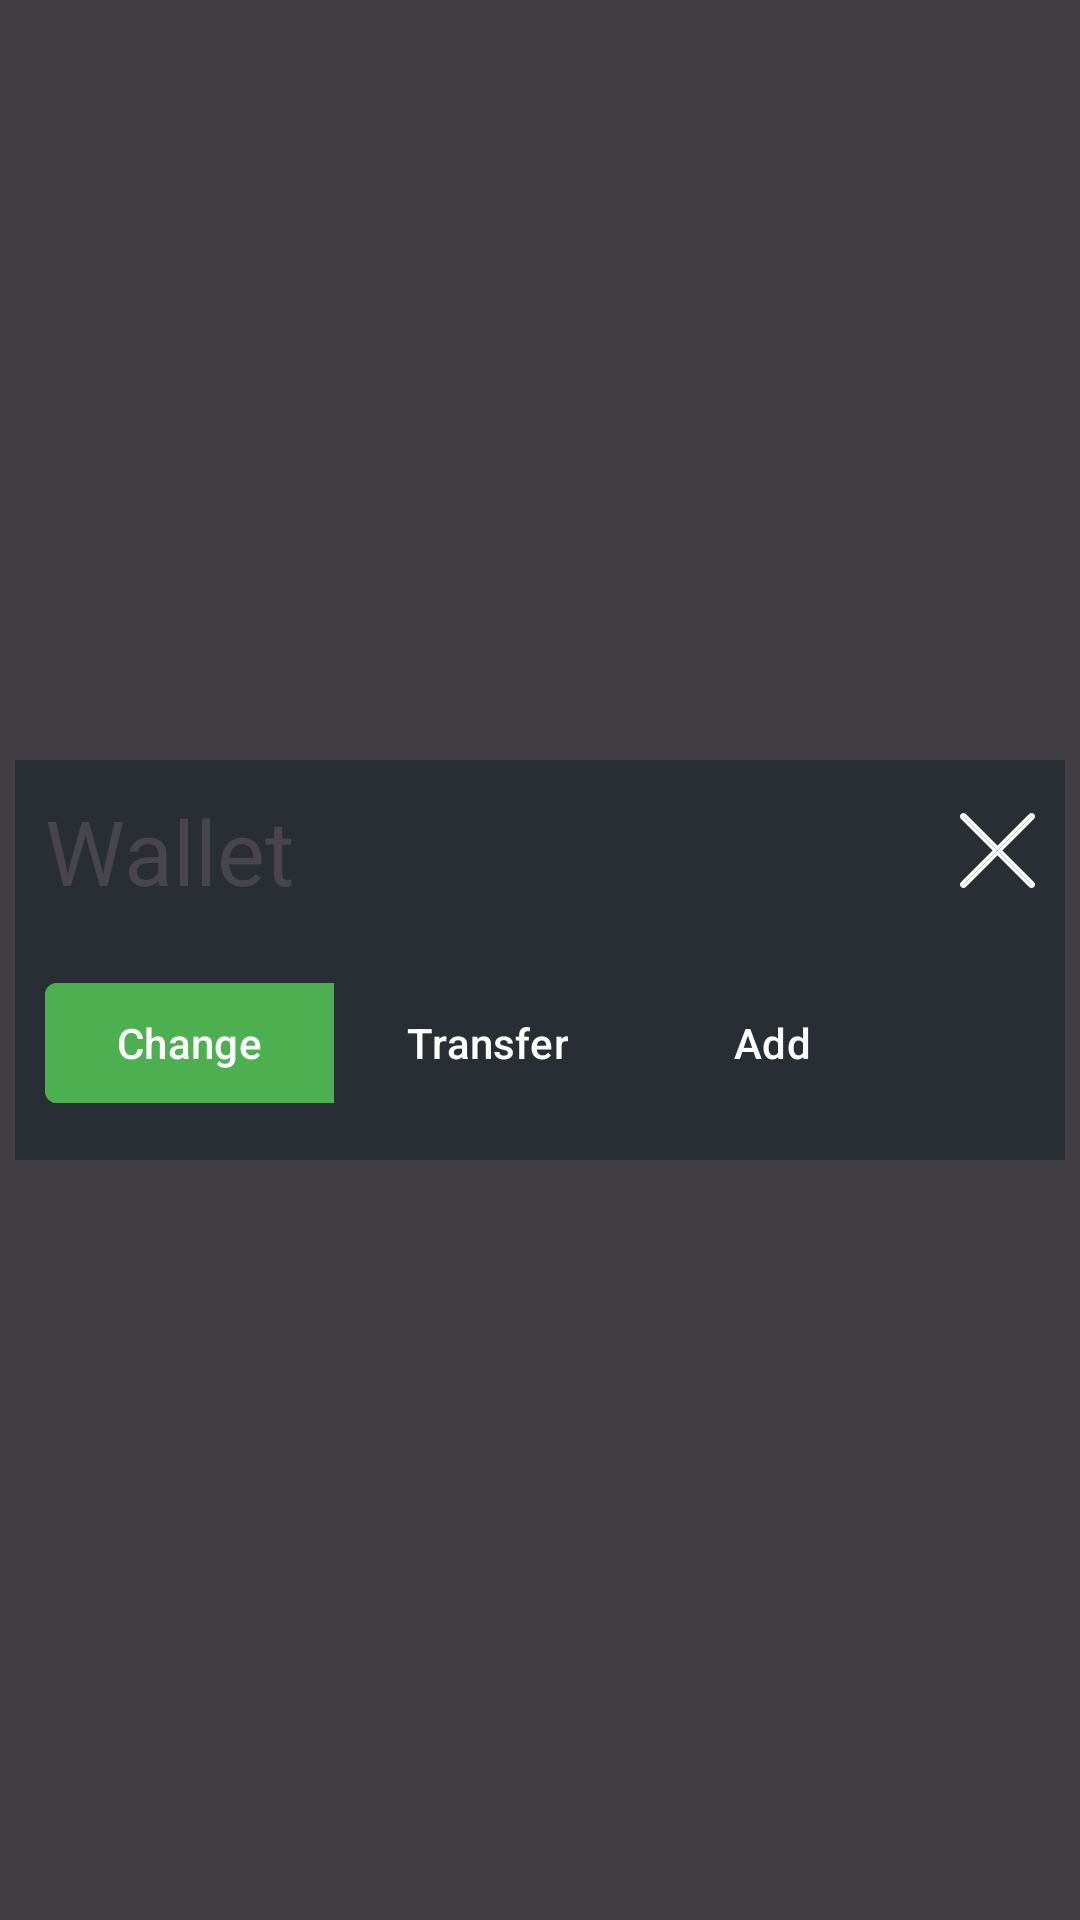

Icon click points for this 1080w x 1920h phone screenshot, format point (x, y):
cancel: point (997, 850)
